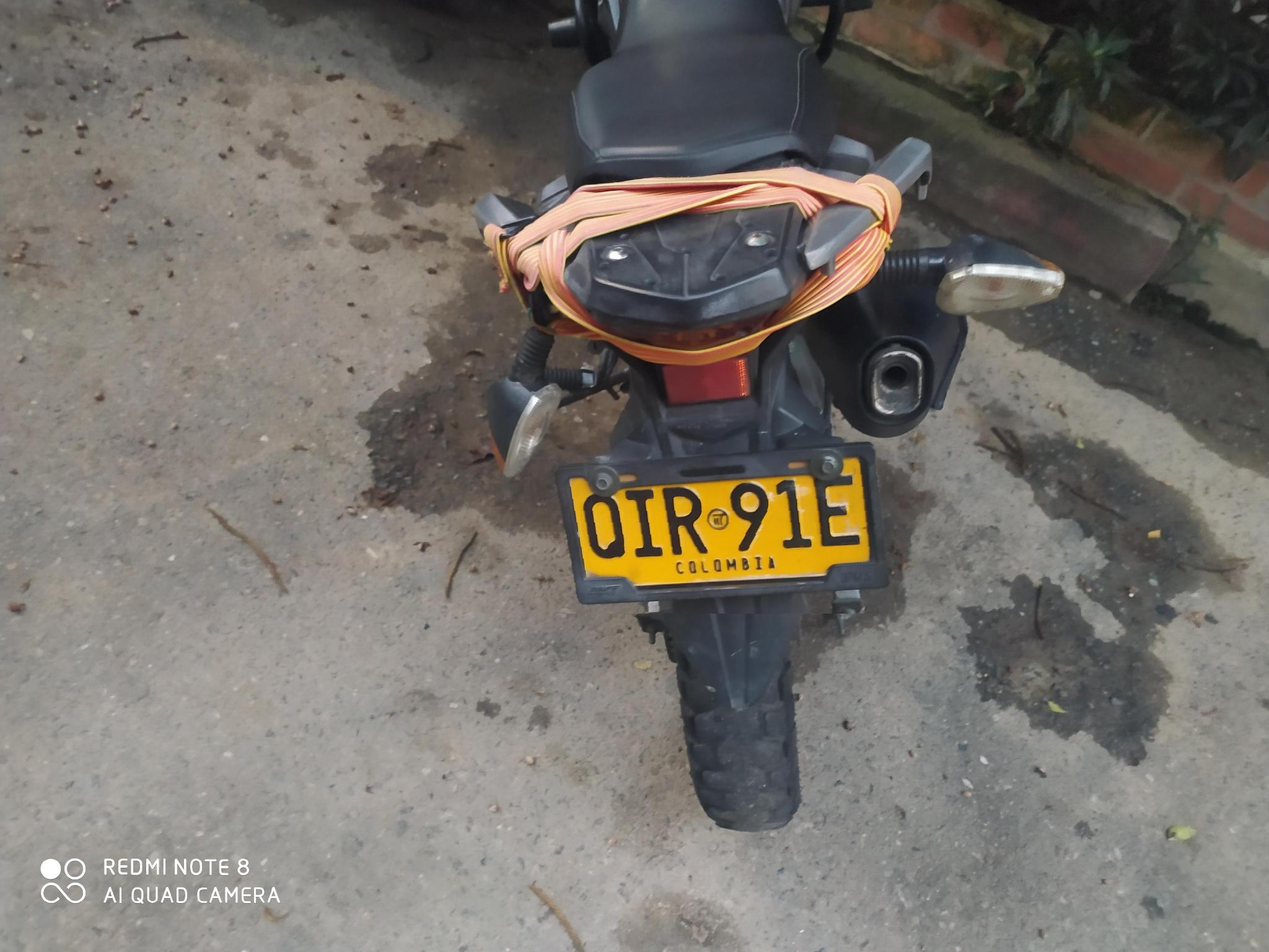placa: (540, 433, 894, 613)
